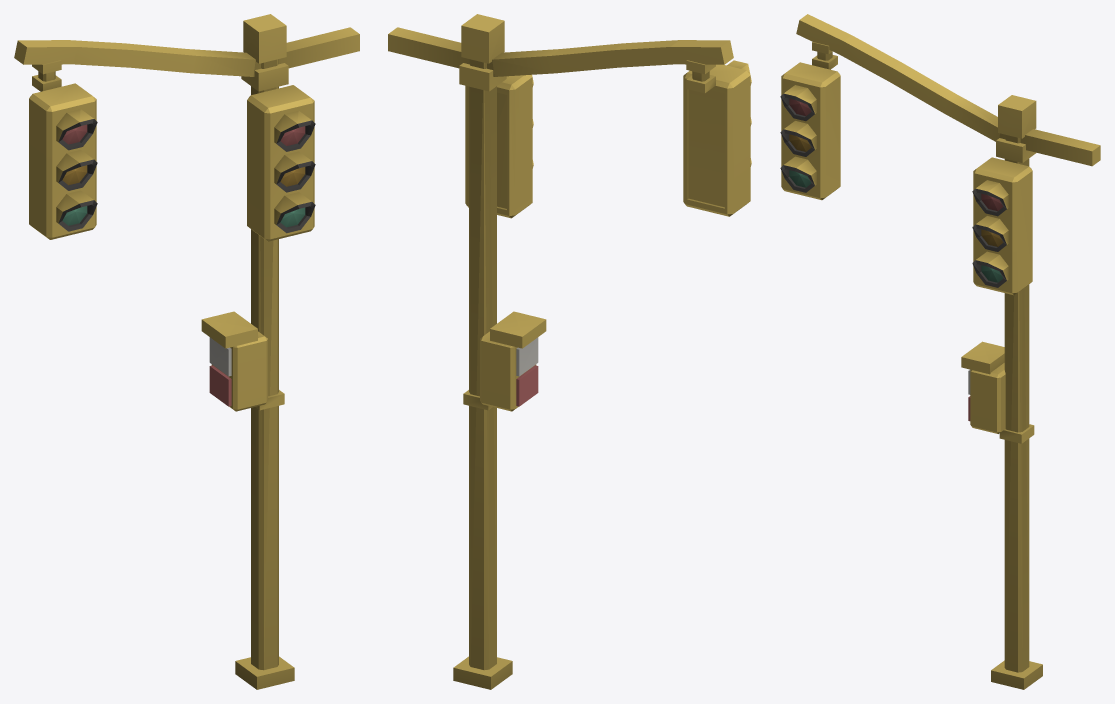
File: light.glb
3 renders of one model, left to right at view 1: azimuth 30°, elevation 25°; view 2: azimuth 150°, elevation 25°; view 3: azimuth 330°, elevation 25°, orthographic. The views are drawn at different scales.
Parts seen in each view (by area): view 1: light; view 2: light; view 3: light.
Boxes of the visible parts, x1,y1,x2,y2 form: light: (14,14,359,689); light: (388,14,751,689); light: (780,14,1100,689).
Bounding box in the file's own units: 2.68 × 5.28 × 0.7223.
